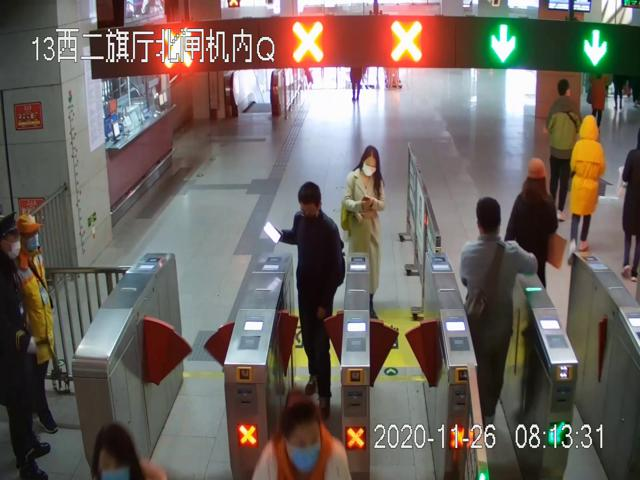person: (460, 196, 535, 431), (292, 182, 347, 413), (13, 213, 61, 434), (341, 144, 386, 323), (546, 77, 580, 224)
